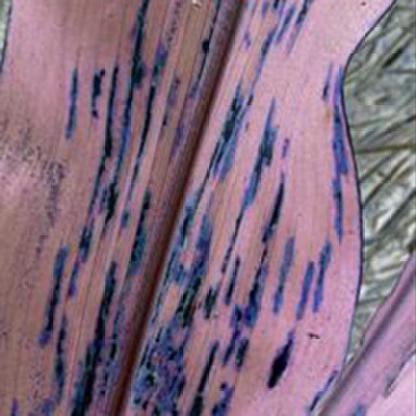Corn leaf blight: (1, 2, 399, 414)
